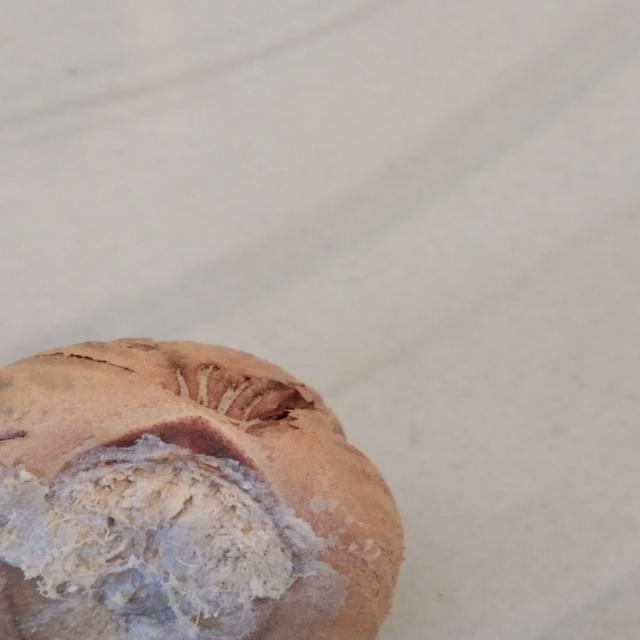phatora: (0, 324, 411, 640)
